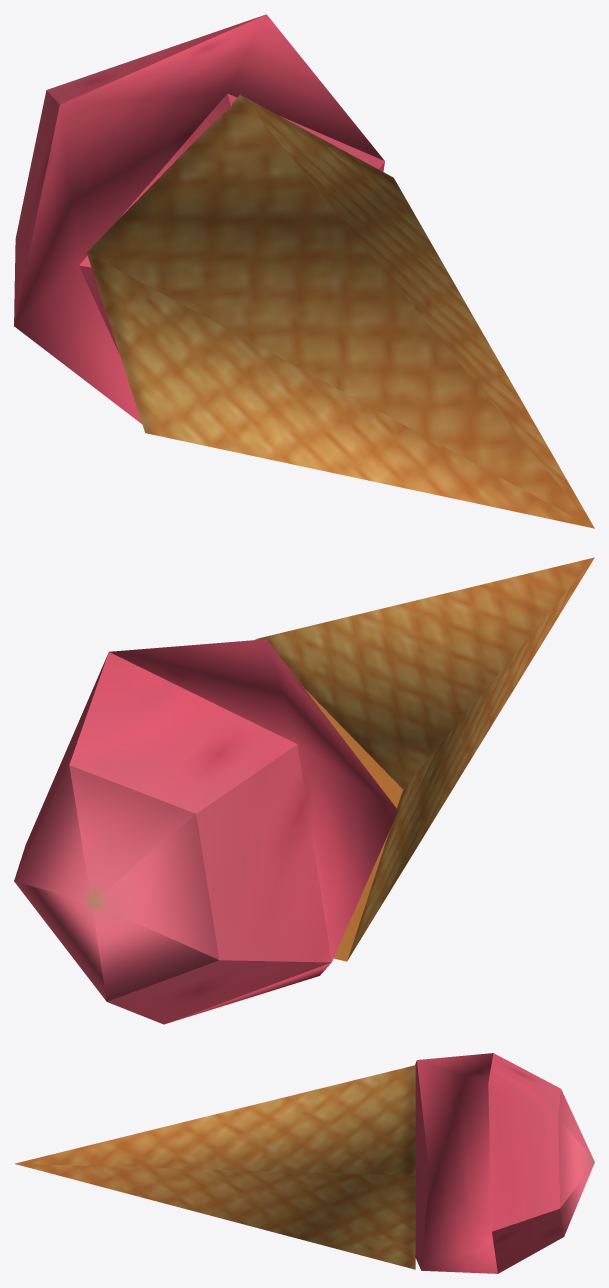
The model's file is IceCream_Cone.fbx.
3 views of the same model, one above another, from view 1: azimuth 30°, elevation 25°; view 2: azimuth 150°, elevation 25°; view 3: azimuth 270°, elevation 25° (orthographic). The views are drawn at different scales.
Parts seen in each view (by area): view 1: IceCream_Cone; view 2: IceCream_Cone; view 3: IceCream_Cone.
Boxes of the visible parts, box(x1,y1,x2,y2) form: IceCream_Cone: box(14, 14, 594, 528); IceCream_Cone: box(14, 557, 594, 1024); IceCream_Cone: box(14, 1053, 594, 1273).
Bounding box in the file's own units: 7.07 × 19.06 × 7.55.
